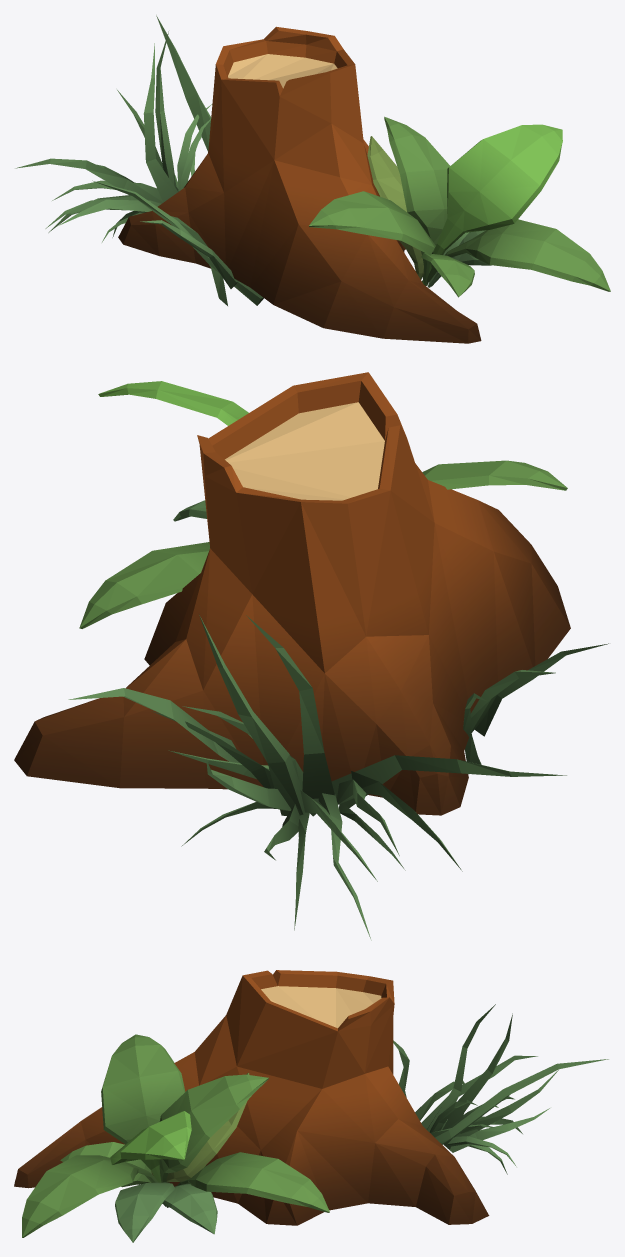
The model's file is TreeStump_A-01.FBX.
3 views of the same model, one above another, from view 1: azimuth 30°, elevation 25°; view 2: azimuth 150°, elevation 25°; view 3: azimuth 270°, elevation 25° (orthographic). The views are drawn at different scales.
Visible parts, largest first — view 1: TreeStump_A-01; view 2: TreeStump_A-01; view 3: TreeStump_A-01.
Boxes of the visible parts, left/top/right/bottom form: TreeStump_A-01: left=15, top=15, right=610, bottom=343; TreeStump_A-01: left=14, top=372, right=608, bottom=940; TreeStump_A-01: left=14, top=970, right=608, bottom=1242.
Bounding box in the file's own units: 209 × 120 × 268.
Materials: 1 (1 with a texture image).
